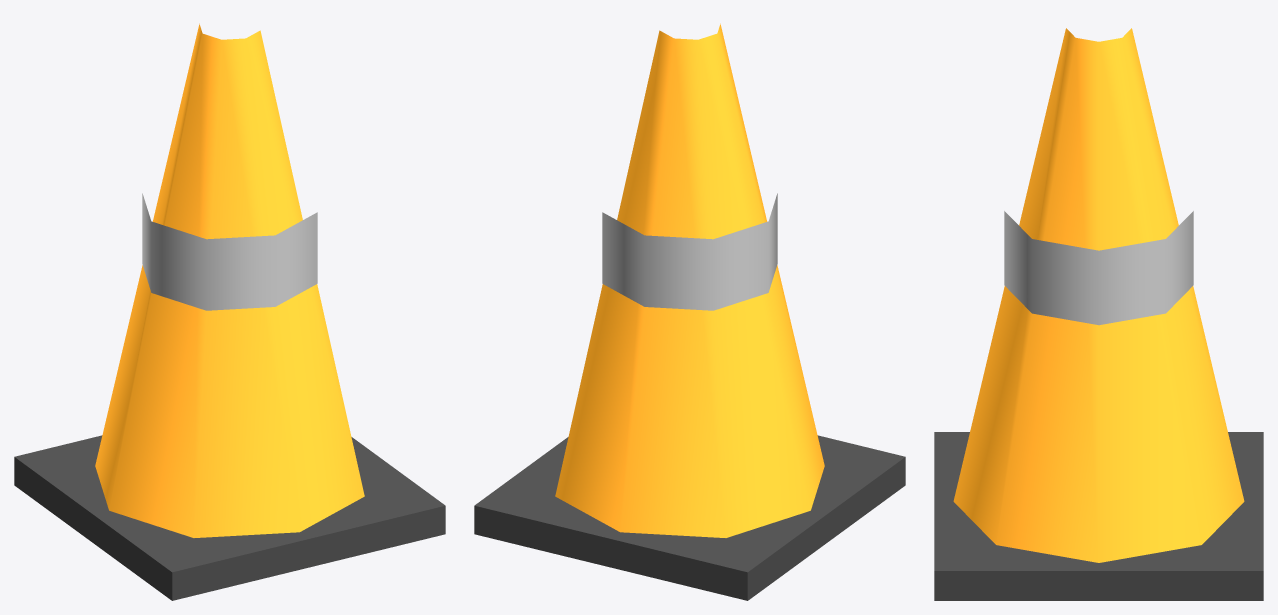
Rendered from traffic_cone.glb.
3 renders of one model, left to right at view 1: azimuth 30°, elevation 25°; view 2: azimuth 150°, elevation 25°; view 3: azimuth 270°, elevation 25°, orthographic. The views are drawn at different scales.
Parts seen in each view (by area): view 1: traffic_cone; view 2: traffic_cone; view 3: traffic_cone.
Part boxes in pixels (x1,y1,x2,y2): traffic_cone: (14, 23, 445, 600); traffic_cone: (474, 23, 905, 600); traffic_cone: (934, 28, 1263, 600).
Size of the model in its own units: 0.4 by 0.675 by 0.4.
